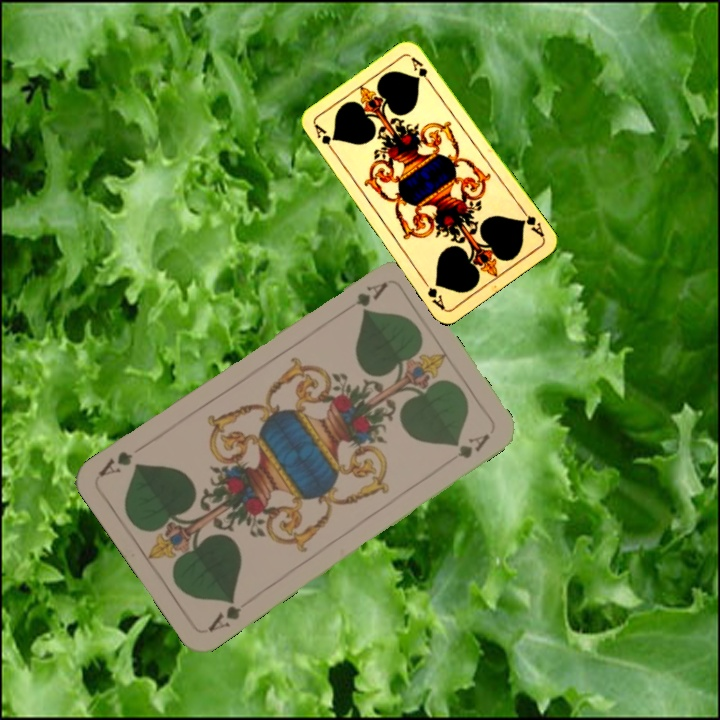GA: (337, 277, 390, 315), (203, 594, 244, 635), (517, 204, 547, 240), (310, 120, 338, 156)
